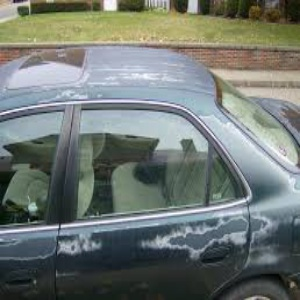door_scratch: (46, 213, 279, 261)
